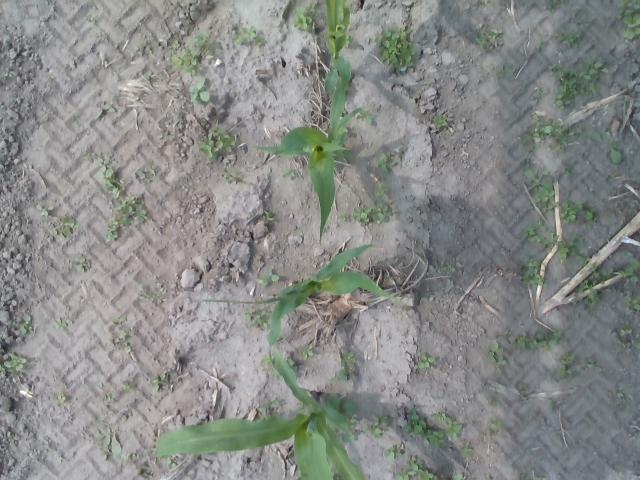Maize: (154, 350, 368, 480), (246, 61, 364, 242), (202, 245, 398, 352), (325, 0, 350, 94), (326, 392, 356, 416)
Weeds: (553, 58, 609, 107), (170, 31, 220, 74), (374, 25, 418, 70), (534, 114, 576, 153), (578, 266, 613, 310), (524, 168, 559, 212), (197, 126, 236, 162), (94, 417, 122, 462), (520, 218, 560, 248), (514, 329, 564, 353), (394, 455, 439, 480), (556, 236, 592, 266), (560, 200, 600, 227), (592, 130, 623, 164), (113, 196, 148, 226), (616, 0, 640, 43), (96, 156, 120, 198), (354, 199, 394, 223), (520, 256, 548, 290), (434, 410, 462, 442), (293, 3, 321, 33), (376, 147, 405, 174), (400, 408, 426, 437), (613, 258, 640, 284), (232, 26, 266, 46), (365, 414, 393, 438), (188, 76, 212, 104), (50, 215, 78, 238), (554, 27, 584, 48), (484, 342, 508, 368), (243, 308, 270, 331), (0, 353, 28, 375), (476, 28, 504, 50), (554, 352, 577, 378), (518, 131, 540, 154), (12, 312, 34, 334), (340, 351, 355, 383), (338, 416, 356, 442), (424, 428, 446, 448), (136, 165, 160, 183), (115, 328, 132, 353), (148, 373, 168, 392), (102, 220, 119, 242), (260, 269, 279, 288), (417, 352, 435, 371), (94, 103, 114, 120), (382, 444, 402, 460), (136, 283, 152, 302), (257, 398, 278, 412), (73, 256, 91, 272), (488, 418, 504, 436), (374, 180, 389, 199), (223, 167, 241, 182), (624, 294, 640, 310), (357, 108, 372, 125), (440, 260, 456, 274), (300, 344, 314, 360), (434, 114, 448, 130), (498, 64, 514, 78), (37, 204, 54, 217), (328, 462, 340, 480), (52, 317, 66, 332), (270, 366, 284, 380), (460, 442, 472, 458), (546, 0, 562, 12), (125, 452, 142, 463), (120, 382, 136, 393), (282, 166, 296, 178), (519, 474, 546, 480), (546, 396, 556, 412), (630, 332, 640, 348), (579, 126, 590, 140), (262, 210, 274, 222), (532, 88, 544, 100), (562, 164, 574, 176), (54, 394, 68, 404), (618, 326, 632, 336), (344, 34, 353, 48), (166, 456, 176, 468), (586, 358, 597, 368), (490, 398, 502, 407), (261, 354, 270, 366), (548, 63, 560, 72), (616, 386, 624, 399), (82, 152, 92, 162), (110, 316, 124, 323), (535, 40, 545, 49), (138, 469, 148, 478), (285, 357, 294, 366), (452, 473, 463, 480), (517, 382, 526, 390), (576, 13, 584, 22), (340, 212, 348, 221), (108, 396, 117, 404), (254, 416, 268, 421), (146, 45, 154, 53), (606, 208, 613, 216), (482, 475, 492, 480), (330, 376, 338, 382), (146, 74, 152, 82), (502, 330, 508, 336), (520, 87, 524, 93)
